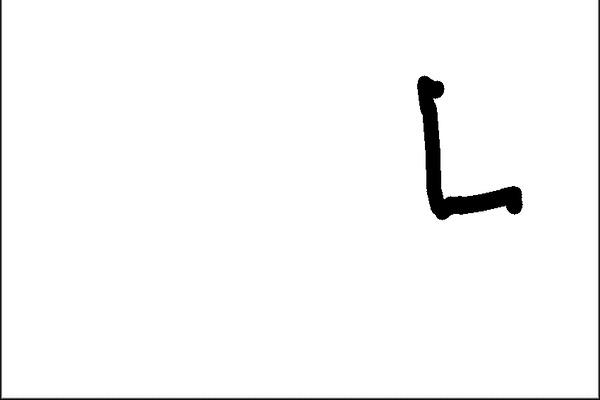L: (406, 67, 530, 226)
